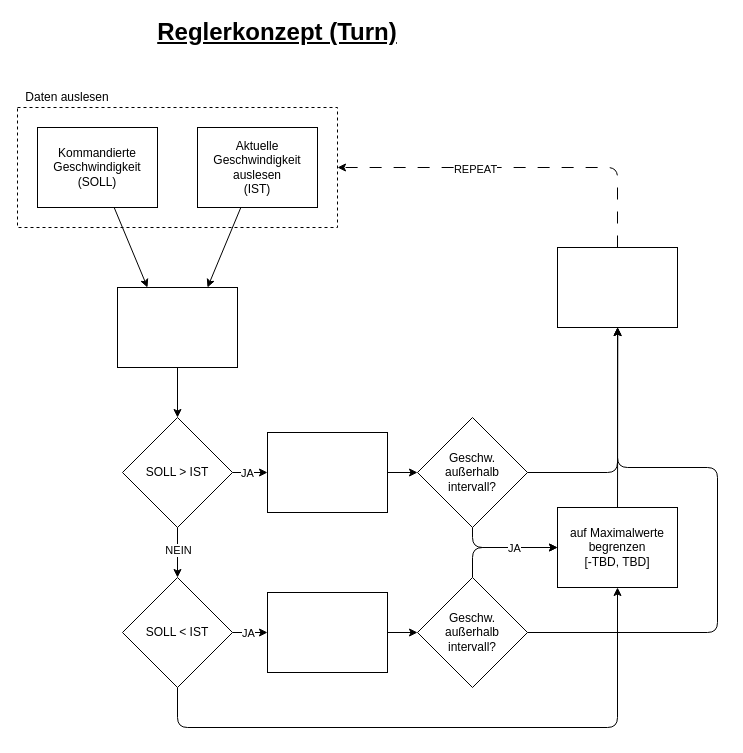
Image size: 743x753. Some labels were removed from this diagram. Here are the shapes that lost their labels. From the top down, the box of each, then its label:
(556, 246, 678, 328): Publish to /cmd_vel
(116, 286, 238, 368): SOLL / IST Vergleich
(266, 432, 388, 512): Geschw. + 0,01
(266, 592, 388, 672): Geschw. - 0,01
